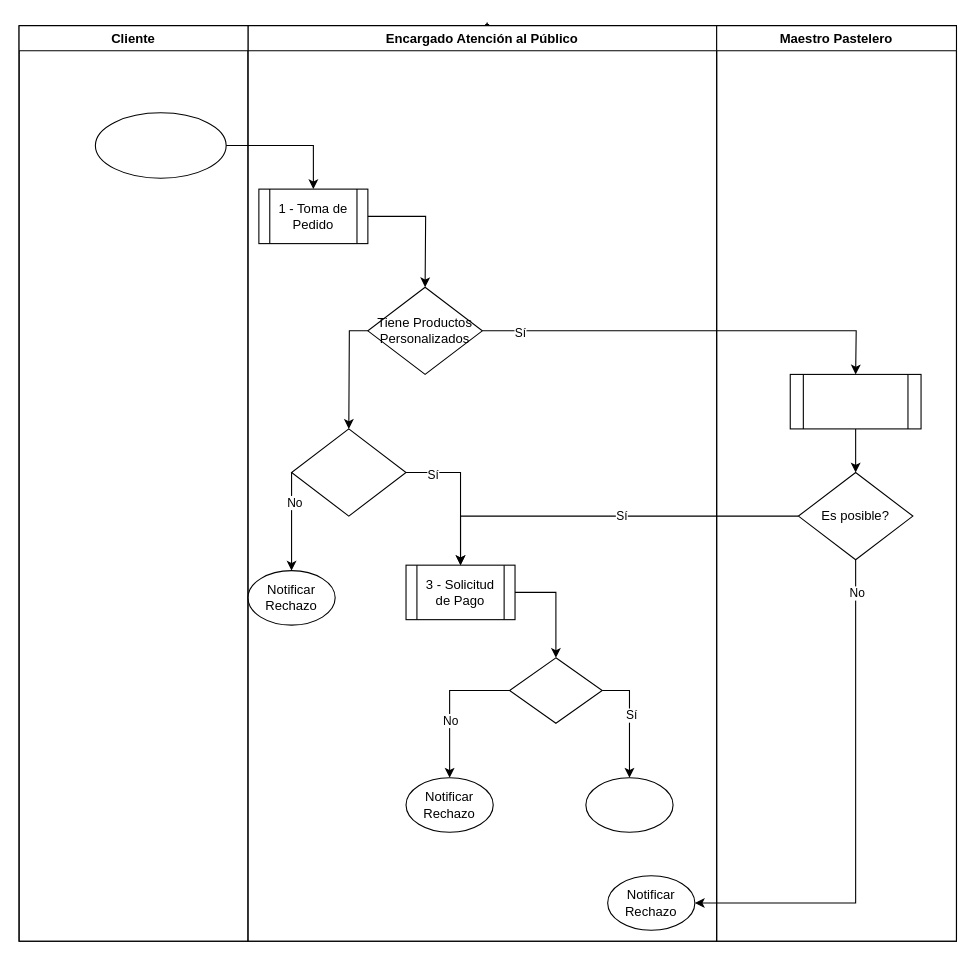
The diagram is 976 pixels wide and 960 high, and some of its shapes have lost their labels. The centre of each missing label's shape, as x and y in pixels:
"2 - Consultoría" belongs at pixel 855 401.
"Comienza Contacto" belongs at pixel 160 145.
"Hay stock o en fabricación" belongs at pixel 348 472.
"Notificar Comienzo Pedido" belongs at pixel 629 804.
"Ok?" belongs at pixel 555 690.
